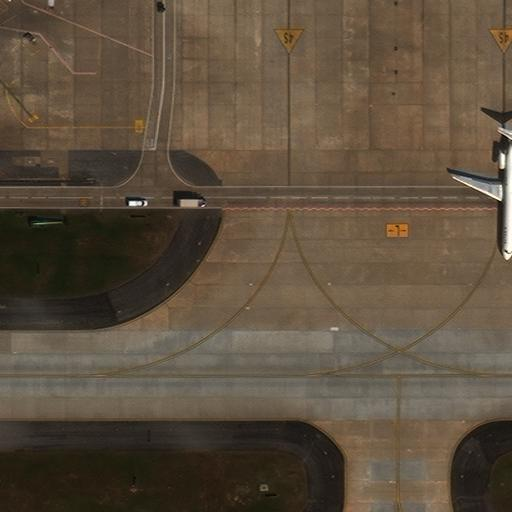Medium Civil Transport: (451, 135, 512, 259)
